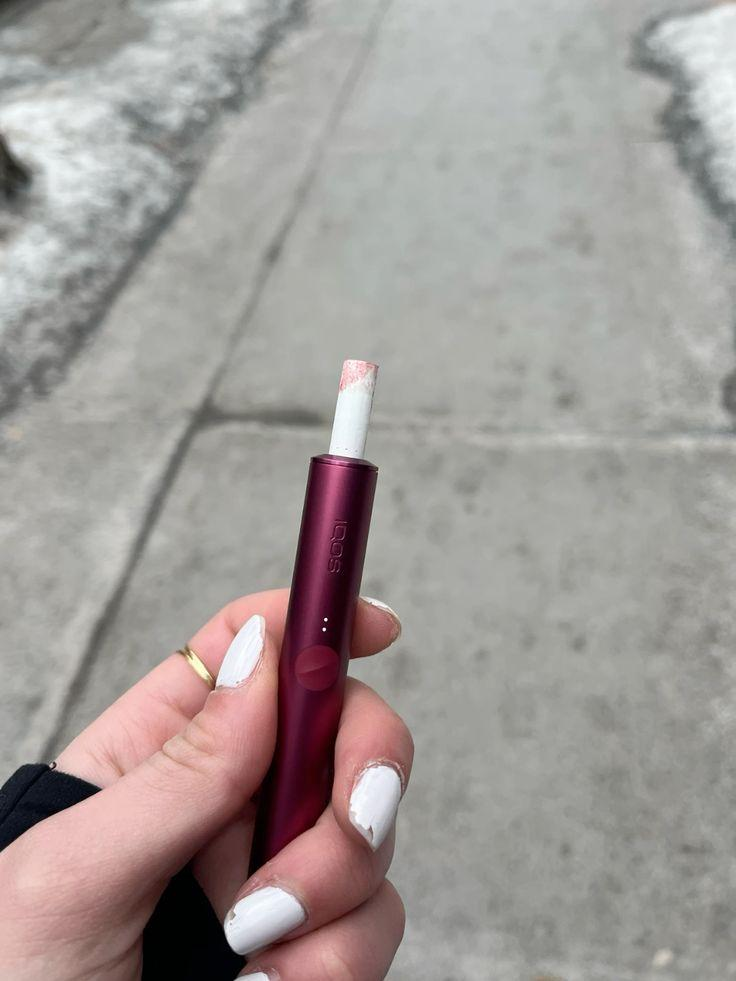iqos: (253, 361, 377, 865)
